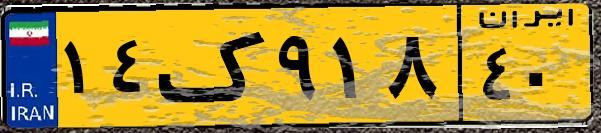0: (525, 38, 570, 115)
1: (330, 28, 385, 110), (57, 26, 110, 100)
4: (475, 38, 525, 113), (110, 28, 158, 98)
8: (385, 28, 445, 110)
9: (270, 28, 330, 110)
ک: (158, 12, 270, 120)
